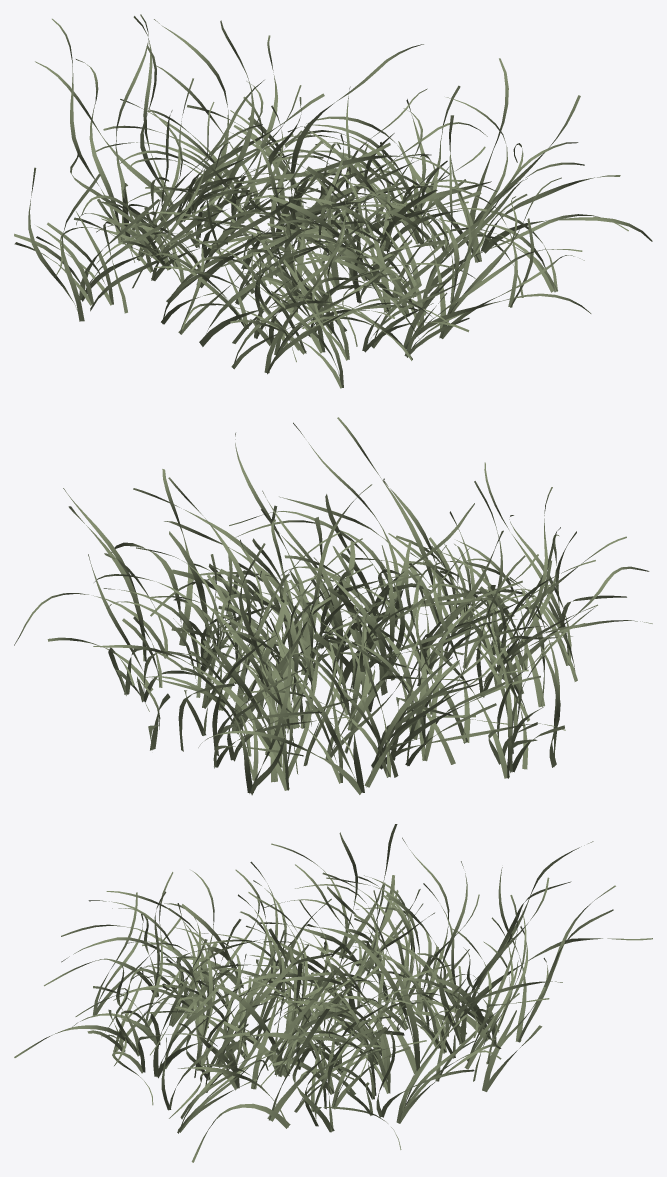
Rendered from GRASS_VARIANT2.fbx.
3 renders of one model, top to bottom at view 1: azimuth 30°, elevation 25°; view 2: azimuth 150°, elevation 25°; view 3: azimuth 270°, elevation 25°, orthographic. The views are drawn at different scales.
Parts seen in each view (by area): view 1: grassWindWide2Main; view 2: grassWindWide2Main; view 3: grassWindWide2Main.
Boxes of the visible parts, box(x1,y1,x2,y2) form: grassWindWide2Main: box(14, 14, 652, 388); grassWindWide2Main: box(14, 417, 652, 795); grassWindWide2Main: box(14, 824, 652, 1162).
Size of the model in its own units: 3.29 by 1.28 by 3.71.
